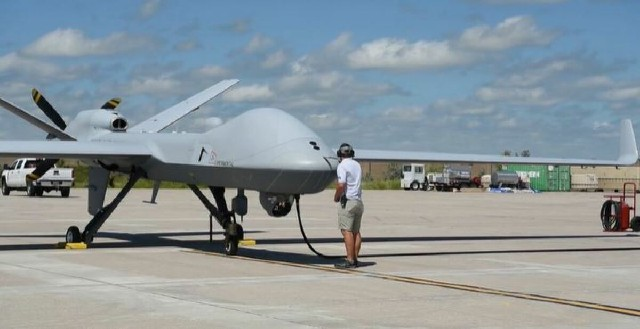maybay_khongnguoilai: (7, 85, 640, 253)
